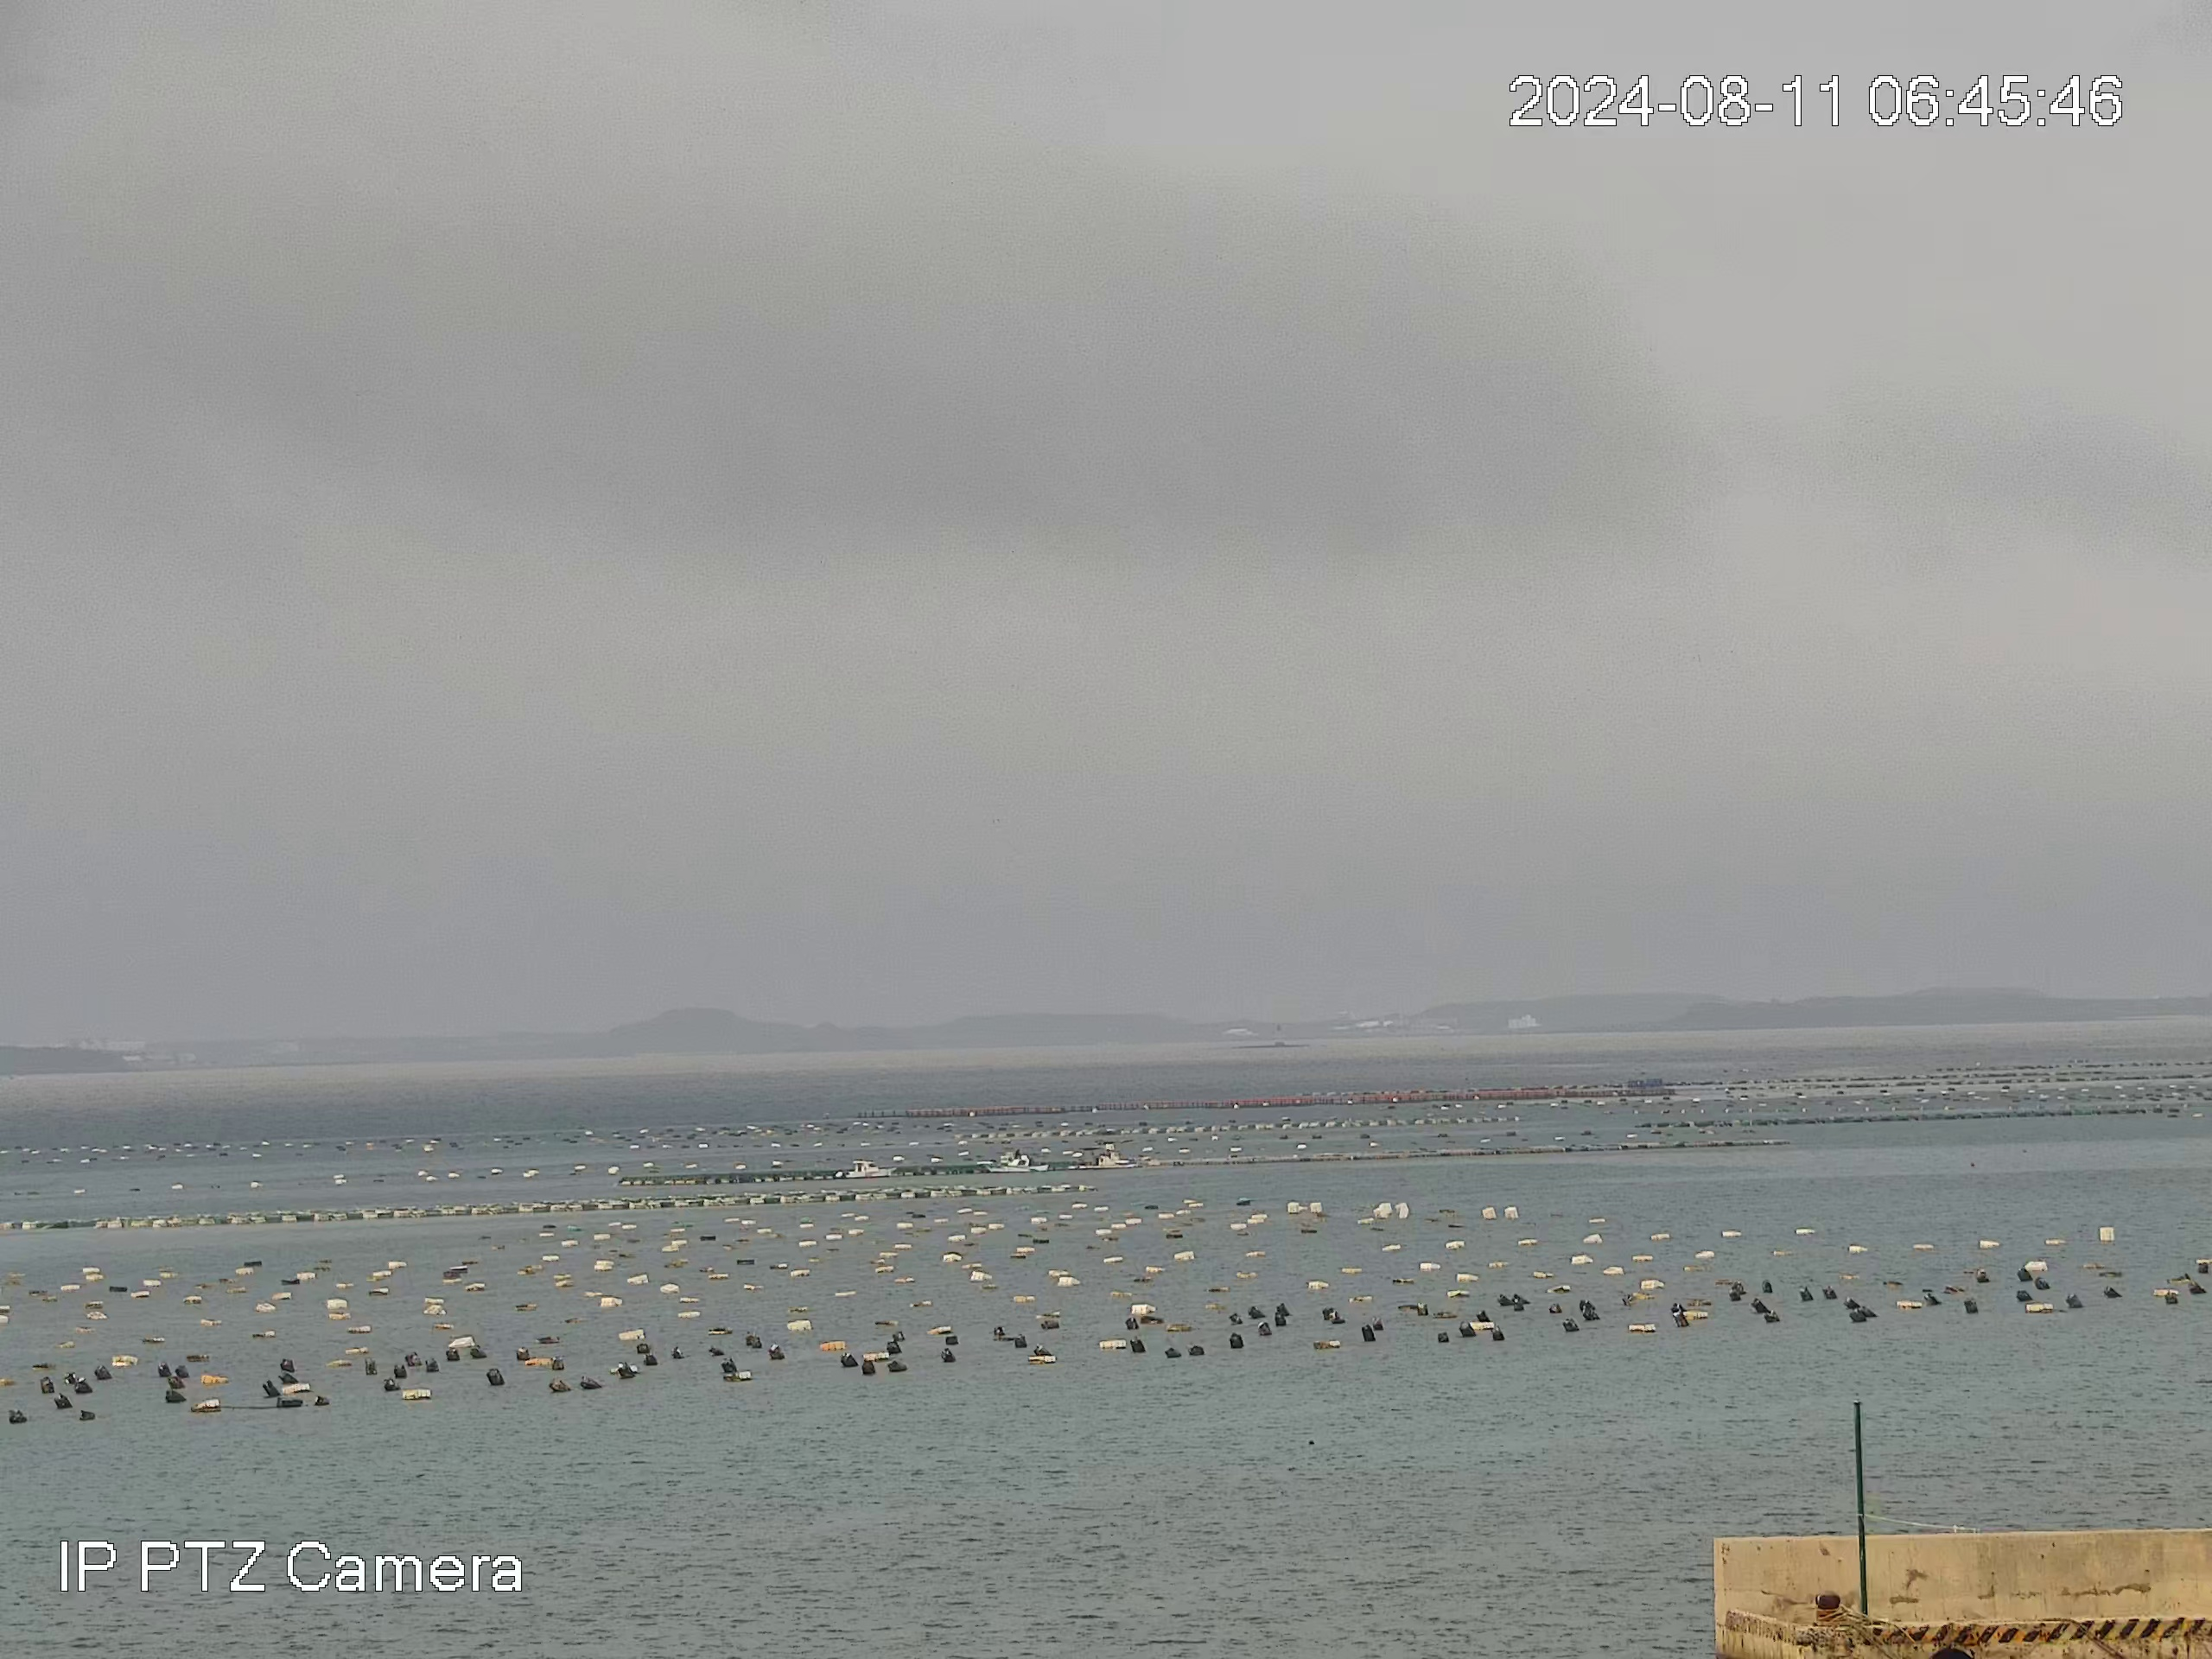boat: (975, 1152, 1050, 1175), (833, 1157, 894, 1180), (1066, 1152, 1118, 1171)
